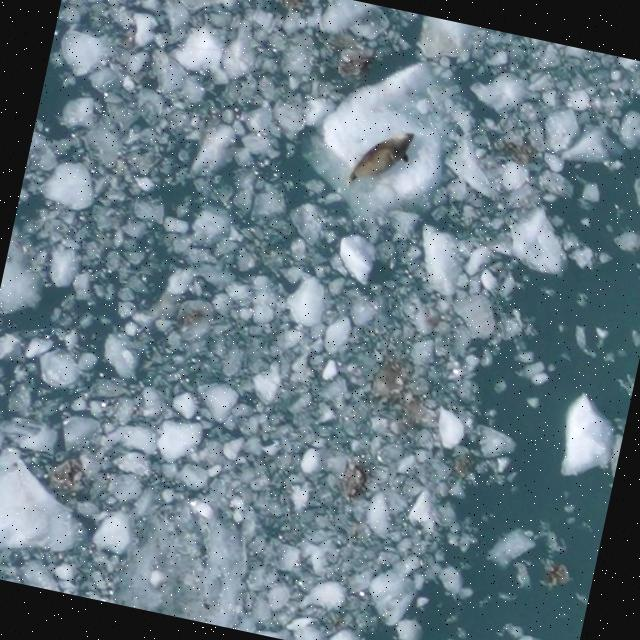seal: (337, 125, 425, 188)
